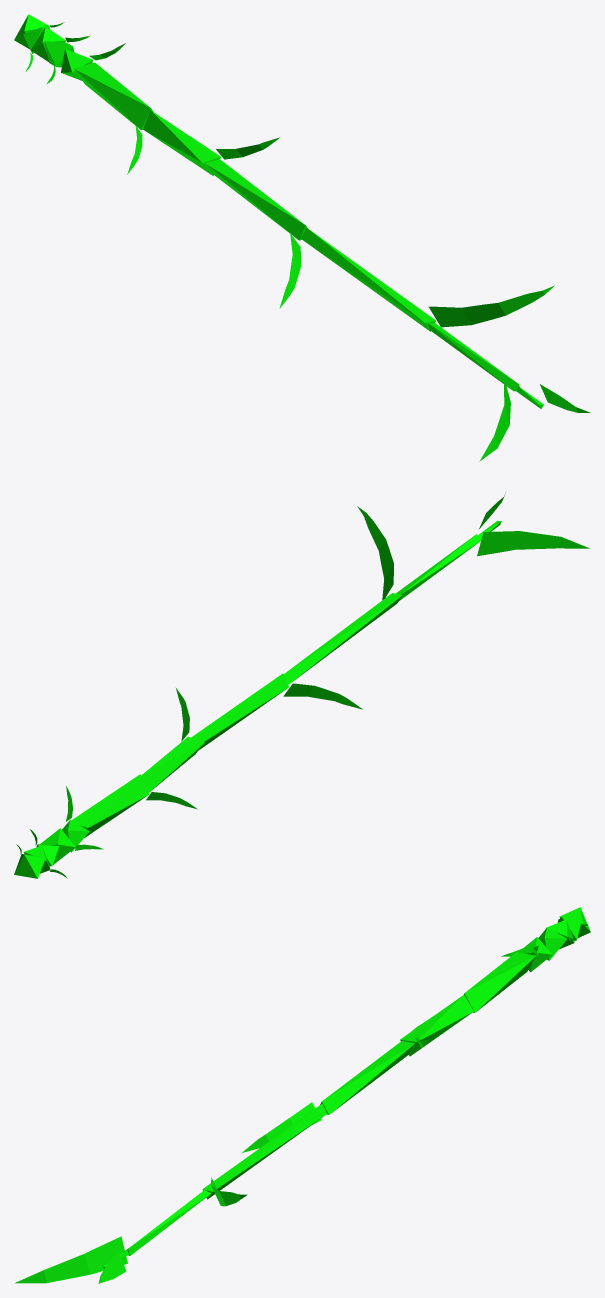
File: usm_22_2.5D_2018-07-30_6.obj
3 renders of one model, top to bottom at view 1: azimuth 30°, elevation 25°; view 2: azimuth 150°, elevation 25°; view 3: azimuth 330°, elevation 25°, orthographic. The views are drawn at different scales.
Visible parts, largest first — view 1: vid_19, vid_13, vid_17, vid_20, vid_15, vid_21, vid_22, vid_18; view 2: vid_13, vid_22, vid_19, vid_17, vid_15, vid_20, vid_21, vid_18, vid_3, vid_9; view 3: vid_22, vid_13, vid_17, vid_19, vid_15, vid_21, vid_18, vid_11.
Part boxes in pixels (<box>): vid_19: <box>301,227,435,331</box>; vid_13: <box>74,62,153,130</box>; vid_17: <box>205,159,307,240</box>; vid_20: <box>428,285,554,327</box>; vid_15: <box>143,110,220,175</box>; vid_21: <box>428,322,519,391</box>; vid_22: <box>479,377,510,461</box>; vid_18: <box>279,233,301,308</box>; vid_13: <box>71,774,149,837</box>; vid_22: <box>477,531,589,556</box>; vid_19: <box>283,593,402,684</box>; vid_17: <box>191,673,288,749</box>; vid_15: <box>141,736,204,792</box>; vid_20: <box>357,506,393,599</box>; vid_21: <box>396,534,481,600</box>; vid_18: <box>283,683,362,709</box>; vid_3: <box>14,854,45,878</box>; vid_9: <box>40,828,75,864</box>; vid_22: <box>15,1236,127,1283</box>; vid_13: <box>464,952,535,1012</box>; vid_17: <box>320,1041,414,1114</box>; vid_19: <box>202,1103,326,1199</box>; vid_15: <box>400,995,473,1056</box>; vid_21: <box>123,1190,210,1255</box>; vid_18: <box>242,1102,321,1152</box>; vid_11: <box>518,937,552,972</box>.
Size of the model in its own units: 27.36 by 13.96 by 156.
